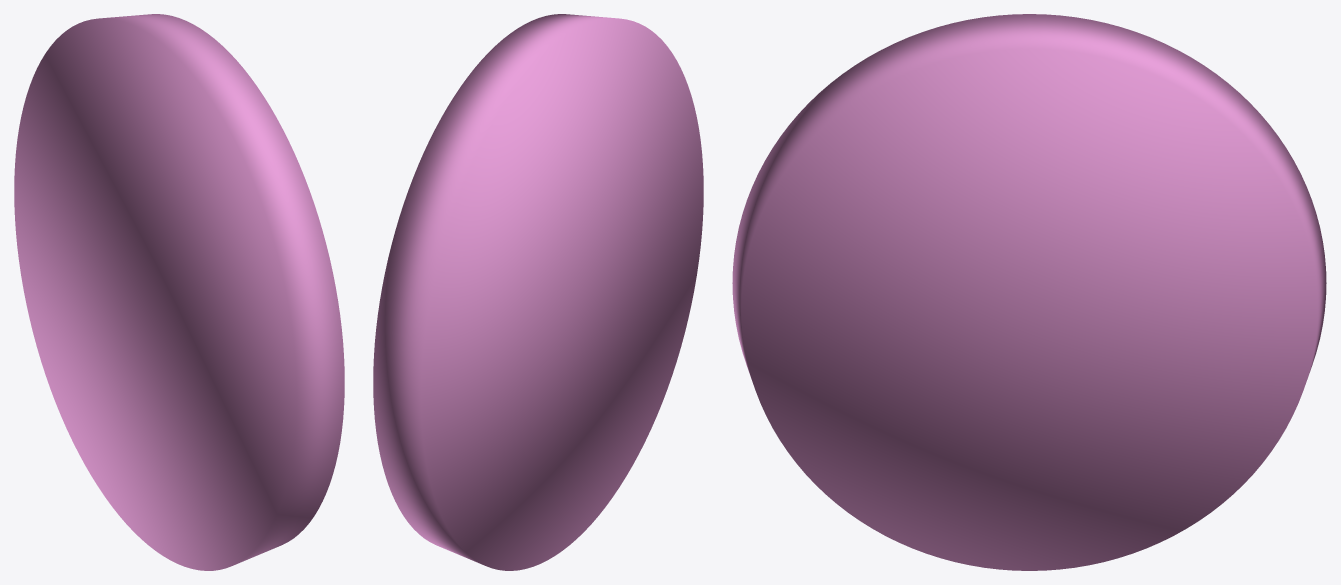
Rendered from Tread.obj.
3 views of the same model, side by side, from view 1: azimuth 30°, elevation 25°; view 2: azimuth 150°, elevation 25°; view 3: azimuth 270°, elevation 25° (orthographic). The views are drawn at different scales.
Parts seen in each view (by area): view 1: T2; view 2: T2; view 3: T2.
Boxes of the visible parts, <box> form: T2: <box>14,14,344,570</box>; T2: <box>373,14,703,570</box>; T2: <box>732,14,1326,570</box>.
Bounding box in the file's own units: 0.092 × 0.864 × 0.864.
